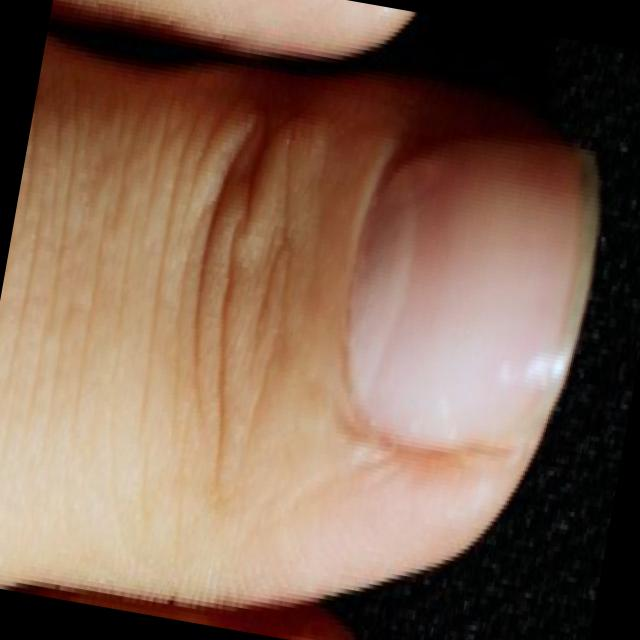Nail: (347, 143, 596, 449)
